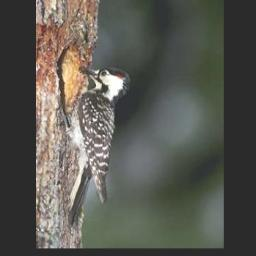Woodpecker: (56, 63, 135, 228)
